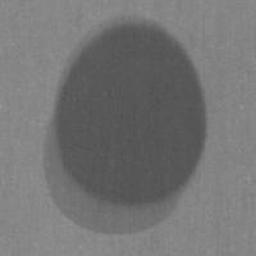Oil spot: (41, 14, 209, 237)
